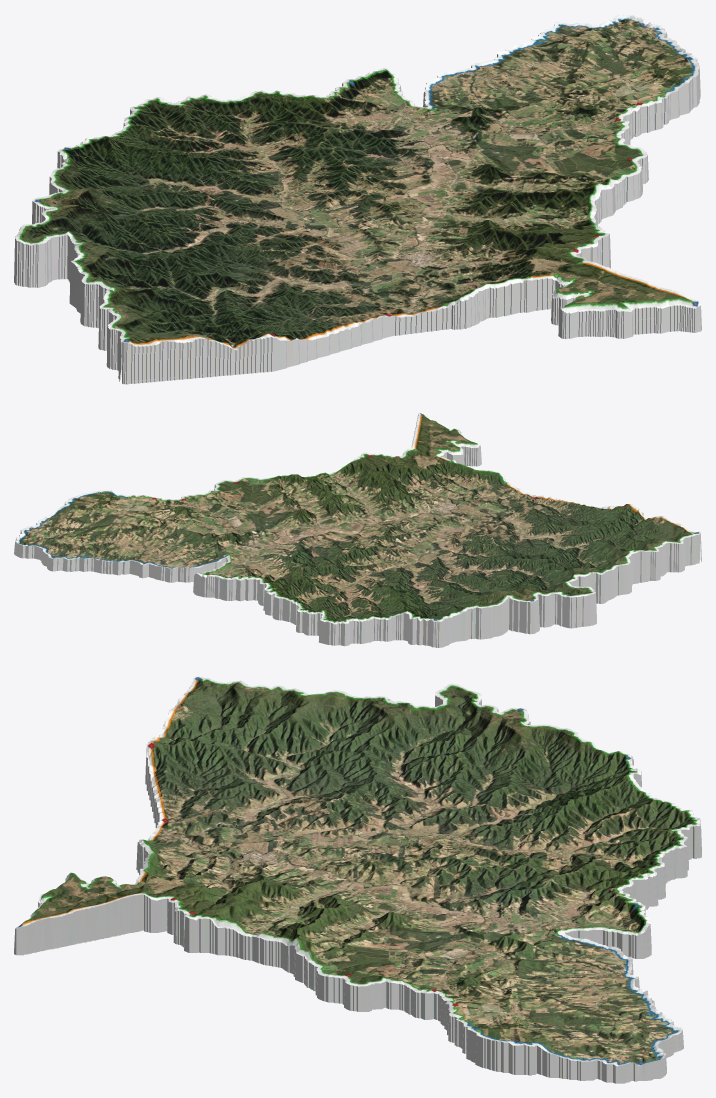
The picture shows the model from 3 angles, top to bottom: view 1: azimuth 30°, elevation 25°; view 2: azimuth 150°, elevation 25°; view 3: azimuth 270°, elevation 25°; orthographic projection. The views are drawn at different scales.
Bounding box in the file's own units: 1 × 0.0581 × 0.7919.
Materials: 1 (1 with a texture image).
